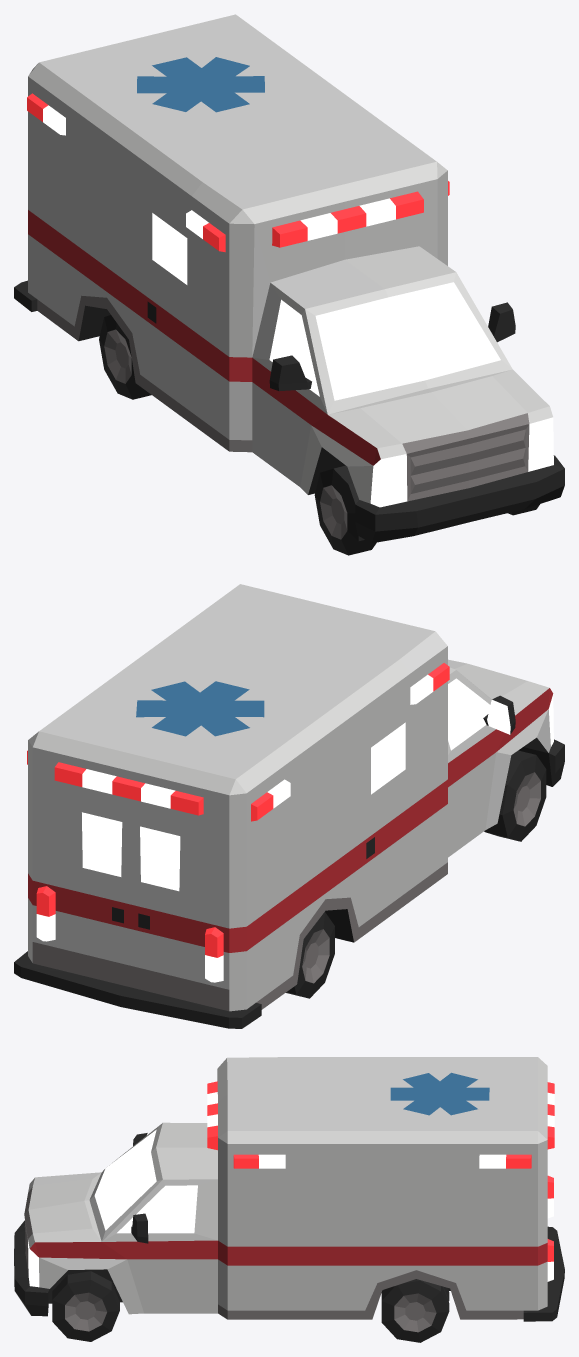
File: vehicles-car-ambulance-pickup.glb
The picture shows the model from 3 angles, top to bottom: view 1: azimuth 30°, elevation 25°; view 2: azimuth 150°, elevation 25°; view 3: azimuth 270°, elevation 25°; orthographic projection. The views are drawn at different scales.
Visible parts, largest first — view 1: car-ambulance-pickup-base, car-ambulance-pickup-wheel_FR, car-ambulance-pickup-wheel_BR; view 2: car-ambulance-pickup-base, car-ambulance-pickup-wheel_FR, car-ambulance-pickup-wheel_BR; view 3: car-ambulance-pickup-base, car-ambulance-pickup-wheel_FL, car-ambulance-pickup-wheel_BL.
Boxes of the visible parts, x1,y1,x2,y2 form: car-ambulance-pickup-base: [14, 14, 564, 543]; car-ambulance-pickup-wheel_FR: [314, 465, 376, 555]; car-ambulance-pickup-wheel_BR: [99, 315, 151, 399]; car-ambulance-pickup-base: [14, 584, 564, 1028]; car-ambulance-pickup-wheel_FR: [484, 750, 546, 841]; car-ambulance-pickup-wheel_BR: [286, 912, 334, 998]; car-ambulance-pickup-base: [14, 1057, 564, 1321]; car-ambulance-pickup-wheel_FL: [52, 1271, 119, 1341]; car-ambulance-pickup-wheel_BL: [381, 1279, 449, 1342].
Bounding box in the file's own units: 2.43 × 2.66 × 6.24.
